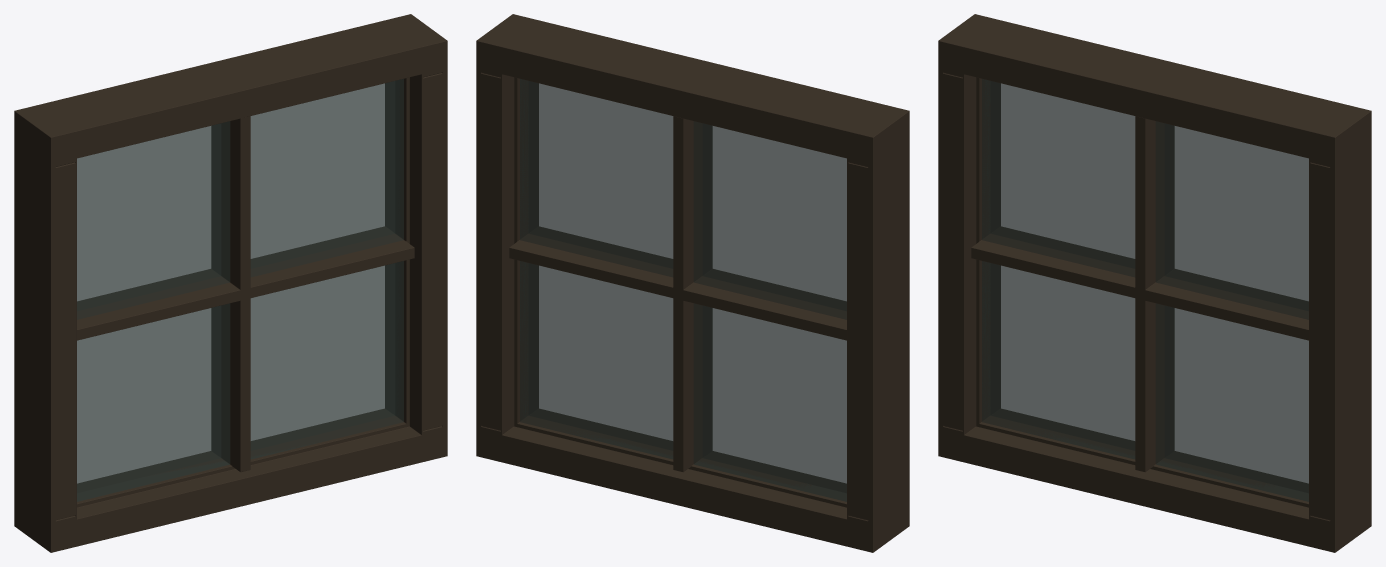
File: glazed_window.glb
3 views of the same model, side by side, from view 1: azimuth 30°, elevation 25°; view 2: azimuth 150°, elevation 25°; view 3: azimuth 330°, elevation 25° (orthographic).
Visible parts, largest first — view 1: glazed_window.001; view 2: glazed_window.001; view 3: glazed_window.001.
Boxes of the visible parts, bbox=[...] form: glazed_window.001: bbox=[14, 14, 447, 552]; glazed_window.001: bbox=[476, 14, 909, 552]; glazed_window.001: bbox=[938, 14, 1371, 552].
Bounding box in the file's own units: 1 × 1 × 0.16.
